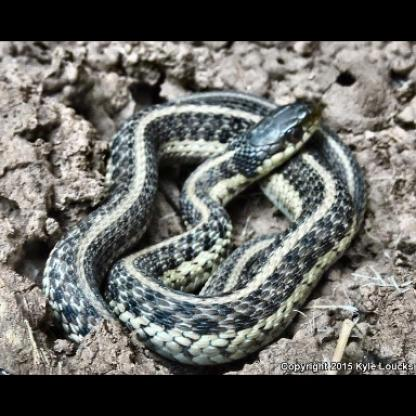Snake: (17, 93, 367, 362)
